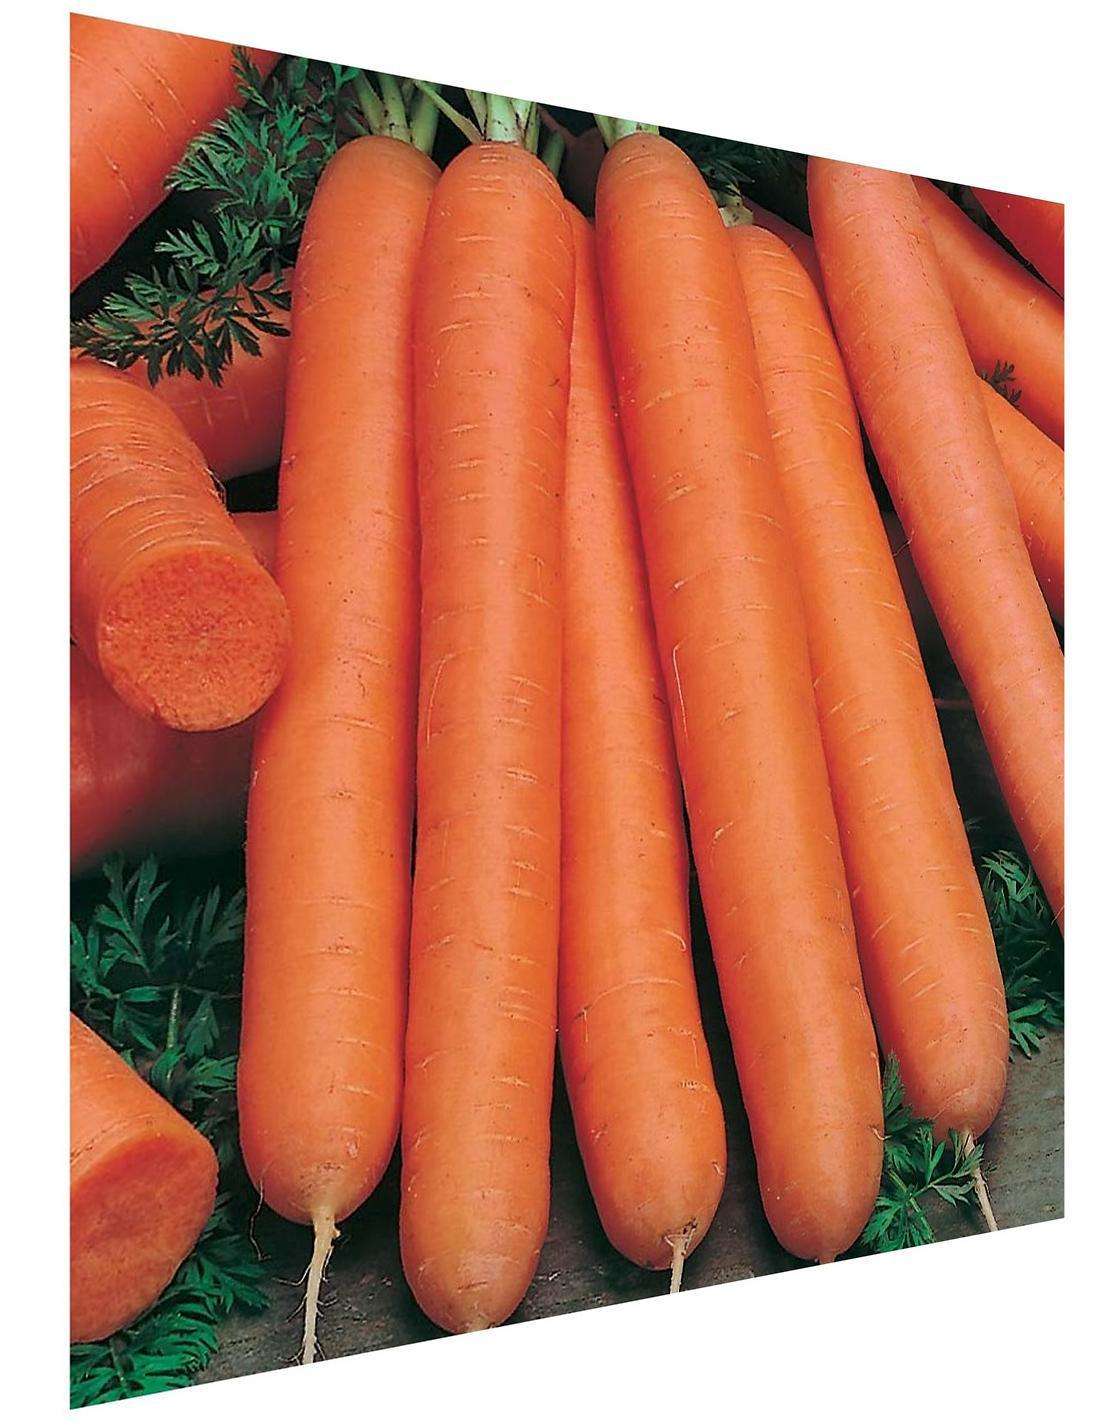carrot: (72, 96, 1038, 1282), (255, 122, 616, 1408), (613, 154, 1034, 1218), (63, 371, 320, 776)
